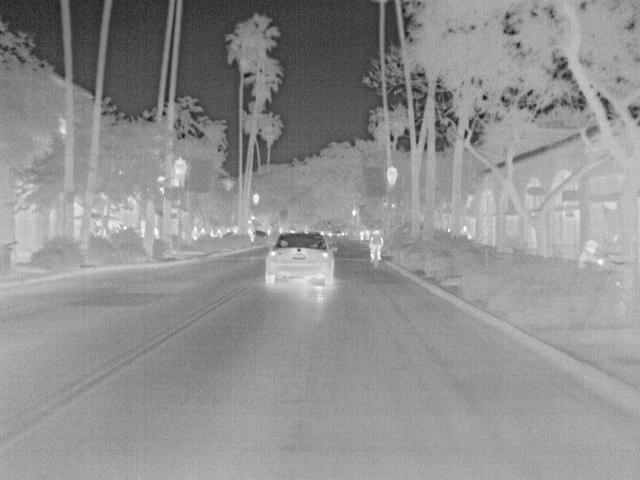car: (262, 230, 336, 287)
person: (579, 237, 605, 265), (367, 227, 386, 262), (189, 225, 199, 240)
